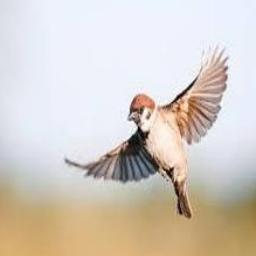Sparrow: (64, 41, 230, 218)
